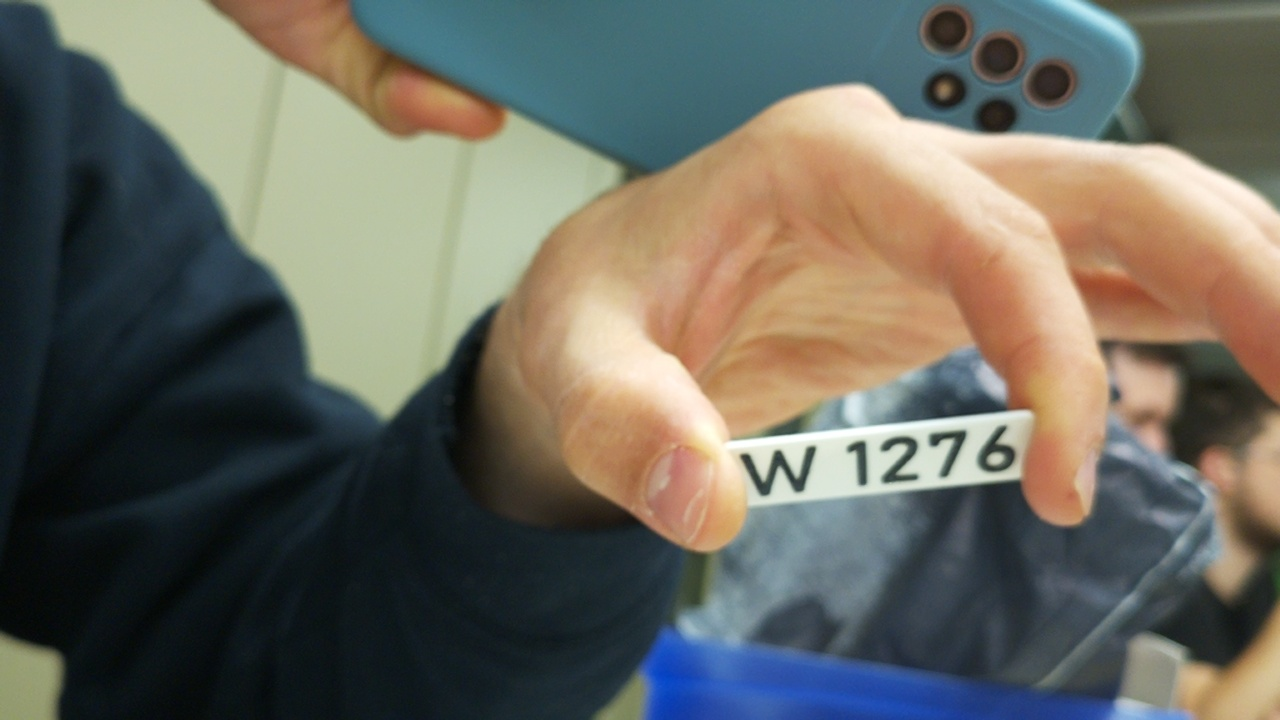license_plate: (718, 407, 1041, 511)
